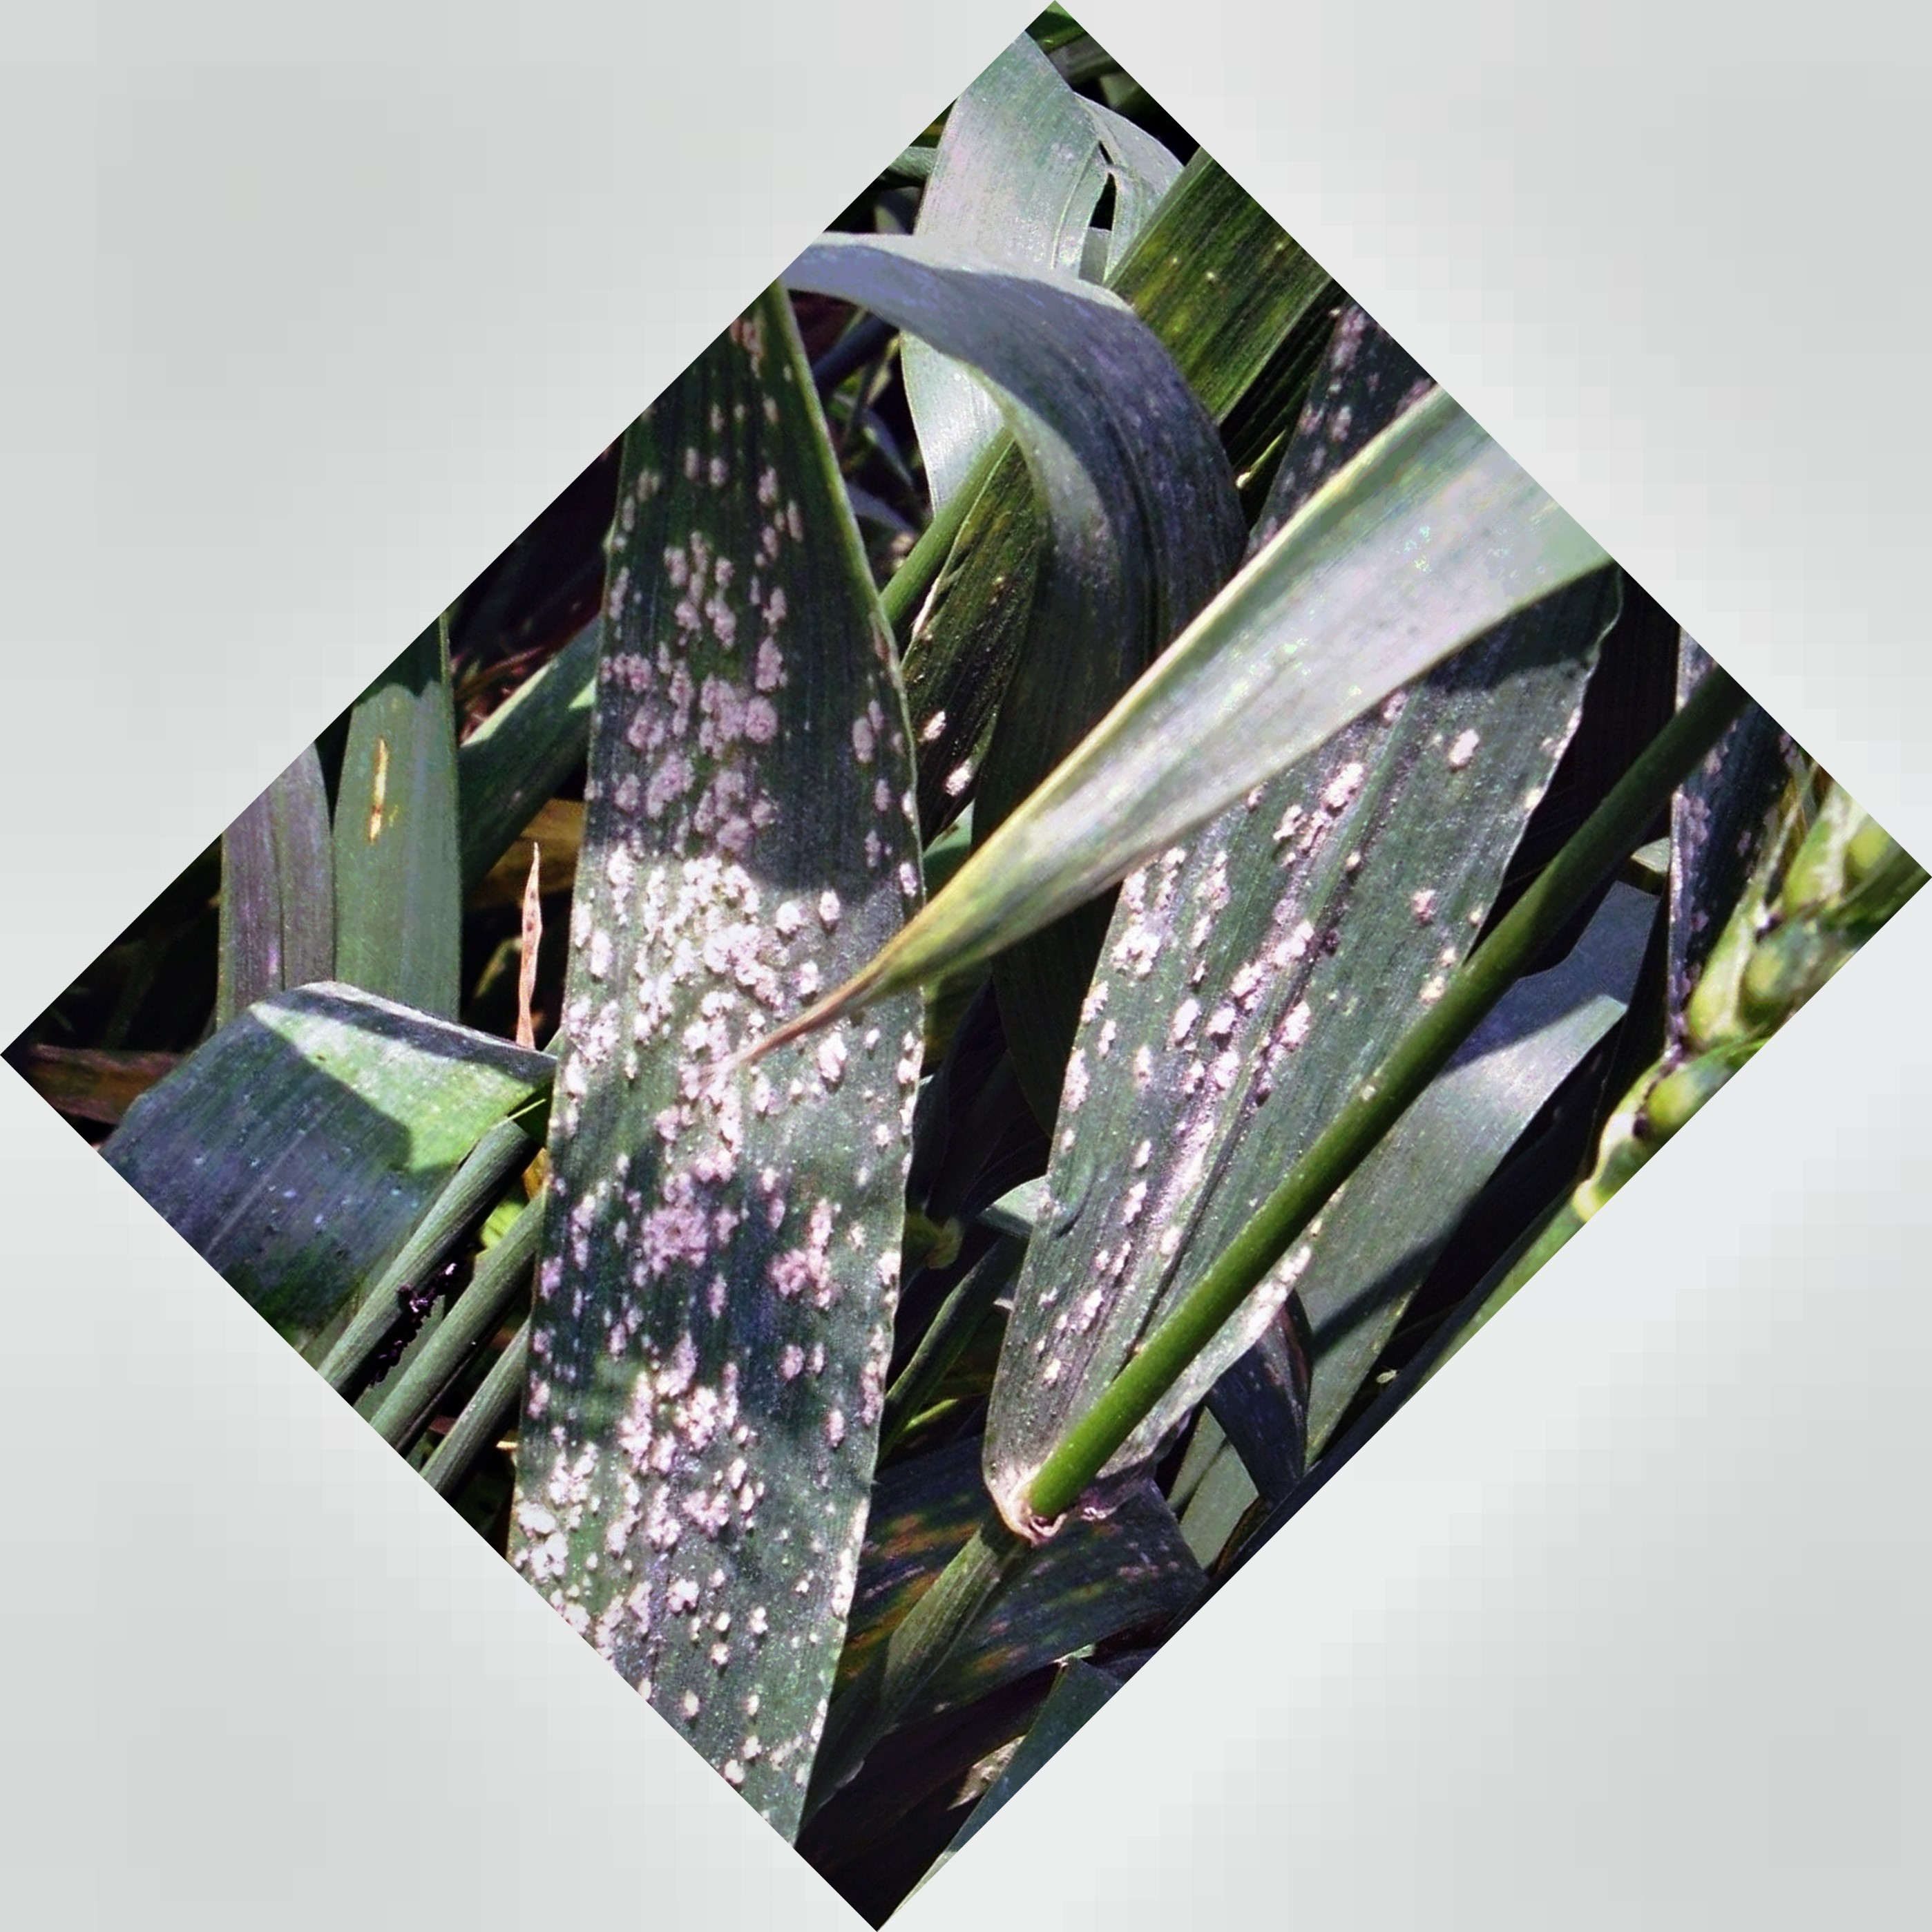Powdery Mildew: (520, 387, 916, 1589)
